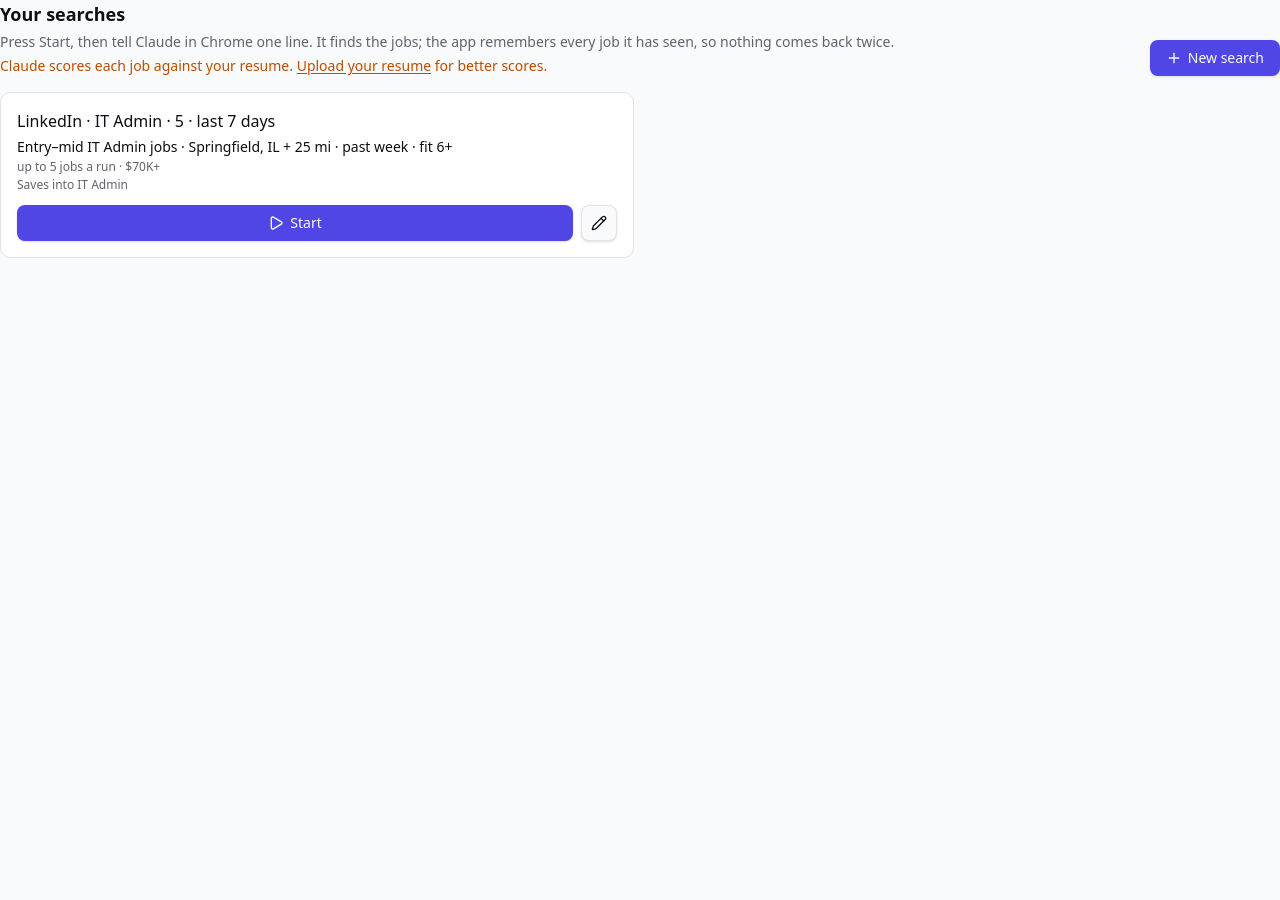
Test case: Claude Scout start › says to upload a resume when there isn't one
This screenshot has width=1280, height=900.
Click the button "New search" at (1215, 58), box [1150,40,1279,76]
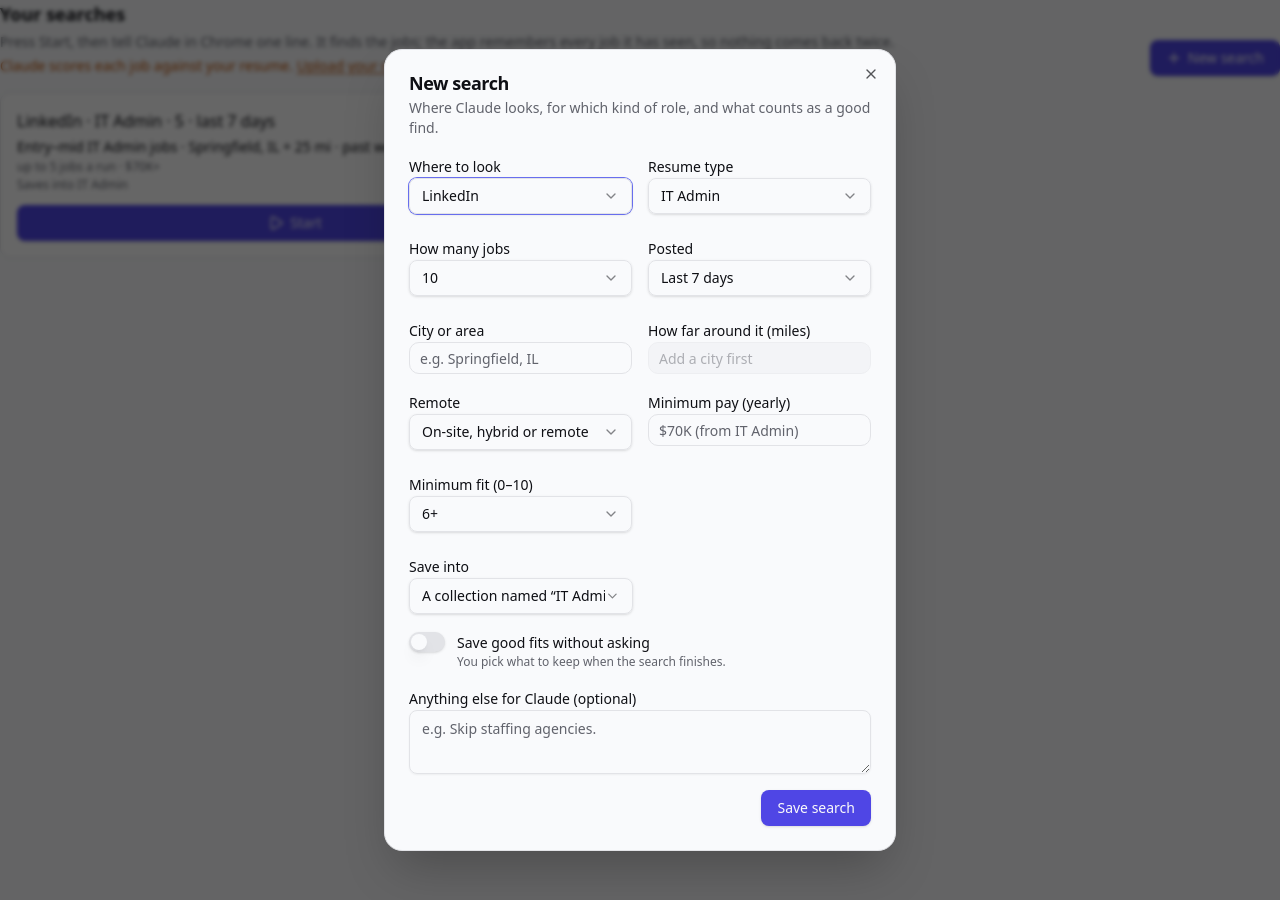
Click the dropdown named "Resume type" at (760, 196), box [648,178,871,214]
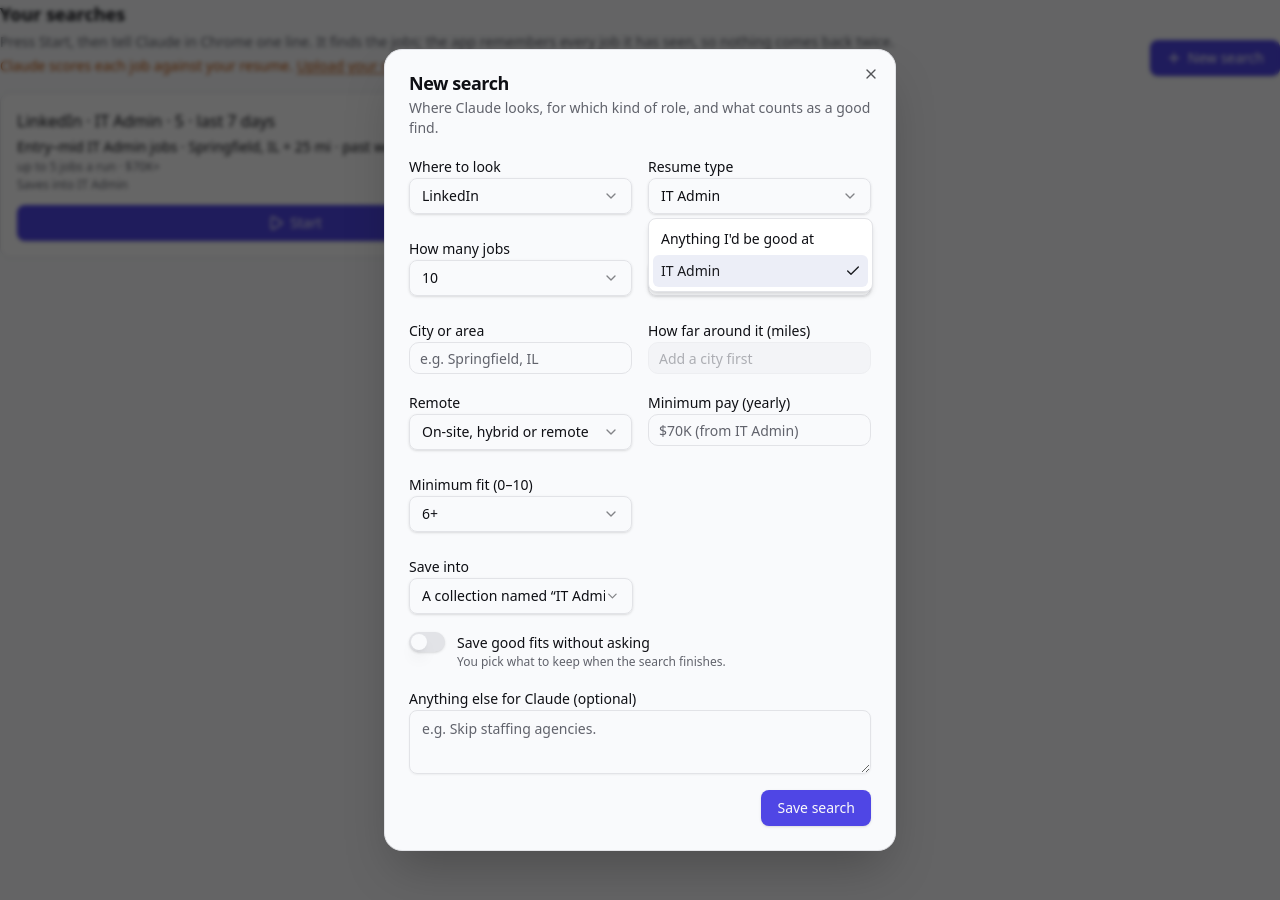
Click the option "Anything I'd be good at" at (738, 238), box [661,229,814,248]
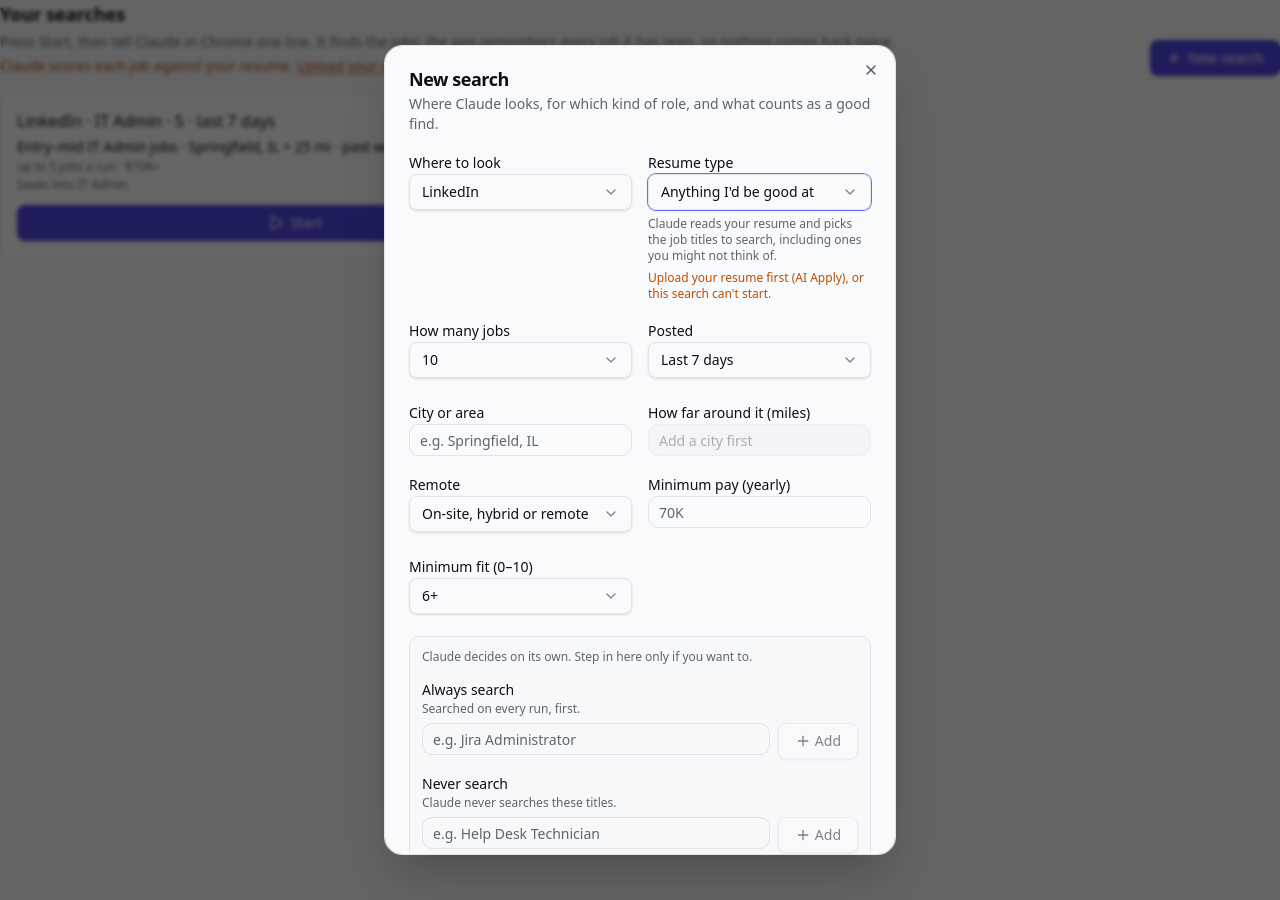
Expected: the text "this search can't start" is shown, [648,269,864,302]
